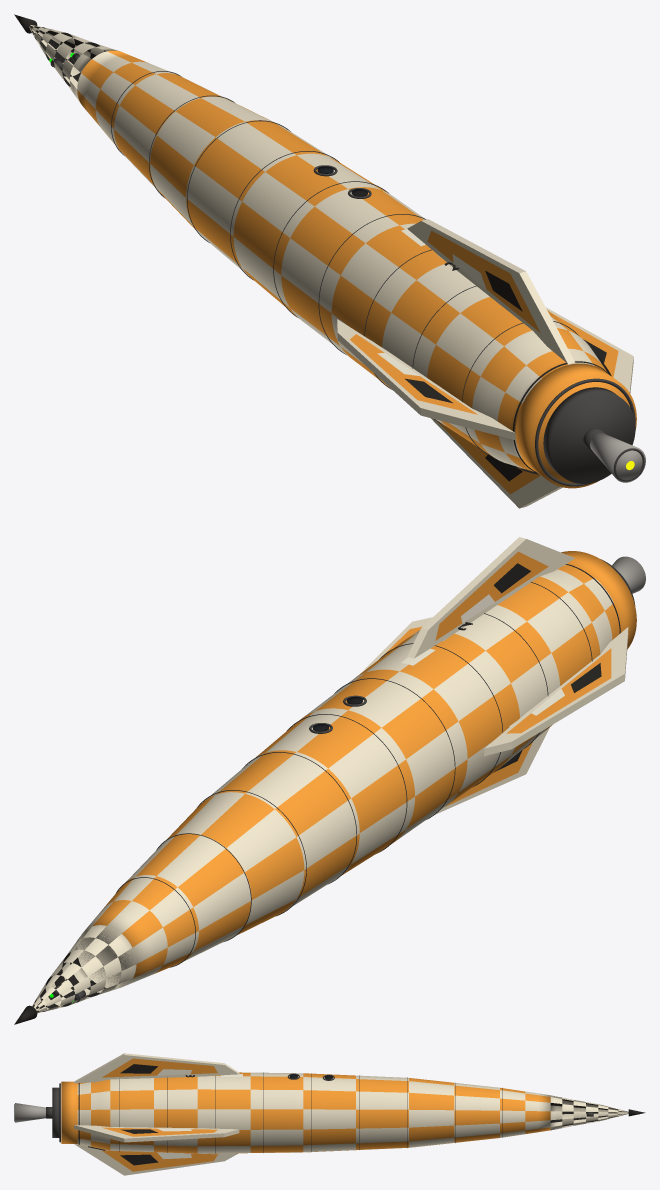
Rendered from Ship_LunarCourier_993089.glb.
3 views of the same model, one above another, from view 1: azimuth 30°, elevation 25°; view 2: azimuth 150°, elevation 25°; view 3: azimuth 270°, elevation 25° (orthographic). The views are drawn at different scales.
Visible parts, largest first — view 1: Fuselage_TaperedPaintedBody, EngineDeck_AftDarkMountPlate, AftCollar_PrimaryEngineBand, TailFin_Dorsal_slender_CreamAerofoil, TailFin_Left_slender_CreamAerofoil, NoseCone_PaintedNeedleSection, TailFinPanel_Dorsal_PrimarySide_A, EngineBell_Main_BurnishedNozzle, TailFinPanel_Left_PrimarySide_B, TailFin_Ventral_slender_CreamAerofoil, TailFinPanel_Ventral_PrimarySide_B, AftTrimRing_DarkRear (+1 smaller); view 2: Fuselage_TaperedPaintedBody, NoseCone_PaintedNeedleSection, TailFin_Dorsal_slender_CreamAerofoil, TailFin_Left_slender_CreamAerofoil, AftCollar_PrimaryEngineBand, TailFinPanel_Dorsal_PrimarySide_A, TailFinPanel_Left_PrimarySide_B, TailFin_Ventral_slender_CreamAerofoil, TailFinPanel_Ventral_PrimarySide_B, EngineBell_Main_BurnishedNozzle; view 3: Fuselage_TaperedPaintedBody, NoseCone_PaintedNeedleSection, TailFin_Dorsal_slender_CreamAerofoil, TailFin_Right_slender_CreamAerofoil, TailFinPanel_Ventral_PrimarySide_A, AftCollar_PrimaryEngineBand, TailFinPanel_Dorsal_PrimarySide_B, TailFin_Ventral_slender_CreamAerofoil, TailFinPanel_Right_PrimarySide_A, EngineBell_Main_BurnishedNozzle, EngineDeck_AftDarkMountPlate, TailFinCheckerPatch_Ventral_01_A (+2 smaller).
Boxes of the visible parts, left/top/right/bottom form: Fuselage_TaperedPaintedBody: left=77, top=50, right=606, bottom=471; EngineDeck_AftDarkMountPlate: left=543, top=387, right=635, bottom=483; AftCollar_PrimaryEngineBand: left=515, top=363, right=636, bottom=488; TailFin_Dorsal_slender_CreamAerofoil: left=407, top=219, right=575, bottom=364; TailFin_Left_slender_CreamAerofoil: left=337, top=319, right=514, bottom=439; NoseCone_PaintedNeedleSection: left=29, top=25, right=118, bottom=101; TailFinPanel_Dorsal_PrimarySide_A: left=427, top=230, right=540, bottom=332; EngineBell_Main_BurnishedNozzle: left=590, top=433, right=645, bottom=482; TailFinPanel_Left_PrimarySide_B: left=350, top=334, right=477, bottom=414; TailFin_Ventral_slender_CreamAerofoil: left=431, top=418, right=562, bottom=508; TailFinPanel_Ventral_PrimarySide_B: left=437, top=421, right=540, bottom=494; AftTrimRing_DarkRear: left=535, top=378, right=635, bottom=486; Fuselage_TaperedPaintedBody: left=77, top=563, right=620, bottom=988; NoseCone_PaintedNeedleSection: left=32, top=925, right=136, bottom=1013; TailFin_Dorsal_slender_CreamAerofoil: left=407, top=537, right=574, bottom=658; TailFin_Left_slender_CreamAerofoil: left=484, top=627, right=628, bottom=756; AftCollar_PrimaryEngineBand: left=561, top=551, right=636, bottom=649; TailFinPanel_Dorsal_PrimarySide_A: left=435, top=551, right=548, bottom=640; TailFinPanel_Left_PrimarySide_B: left=506, top=648, right=611, bottom=733; TailFin_Ventral_slender_CreamAerofoil: left=431, top=727, right=549, bottom=816; TailFinPanel_Ventral_PrimarySide_B: left=445, top=742, right=532, bottom=806; EngineBell_Main_BurnishedNozzle: left=612, top=556, right=645, bottom=593; Fuselage_TaperedPaintedBody: left=77, top=1072, right=550, bottom=1153; NoseCone_PaintedNeedleSection: left=550, top=1095, right=628, bottom=1130; TailFin_Dorsal_slender_CreamAerofoil: left=74, top=1053, right=239, bottom=1083; TailFin_Right_slender_CreamAerofoil: left=74, top=1125, right=239, bottom=1142; TailFinPanel_Ventral_PrimarySide_A: left=102, top=1150, right=217, bottom=1171; AftCollar_PrimaryEngineBand: left=61, top=1081, right=77, bottom=1143; TailFinPanel_Dorsal_PrimarySide_B: left=102, top=1058, right=217, bottom=1077; TailFin_Ventral_slender_CreamAerofoil: left=74, top=1144, right=238, bottom=1175; TailFinPanel_Right_PrimarySide_A: left=102, top=1127, right=217, bottom=1136; EngineBell_Main_BurnishedNozzle: left=15, top=1103, right=45, bottom=1122; EngineDeck_AftDarkMountPlate: left=52, top=1087, right=59, bottom=1137; TailFinCheckerPatch_Ventral_01_A: left=120, top=1154, right=158, bottom=1165.
Size of the model in its own units: 2.4 by 2.53 by 12.03.
